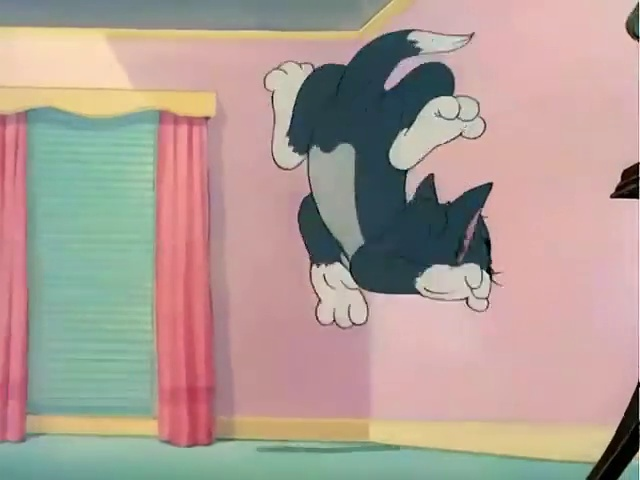tom: (254, 28, 523, 360)
